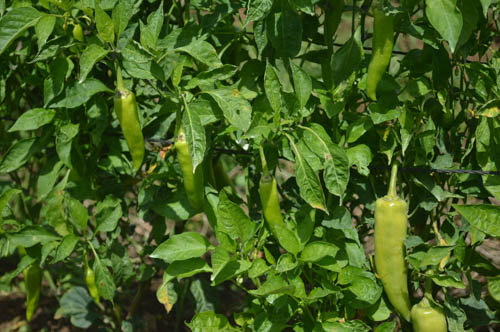ChiliPepper: (368, 200, 409, 313), (115, 95, 146, 172), (366, 14, 392, 97), (176, 138, 201, 211), (256, 177, 279, 237)
